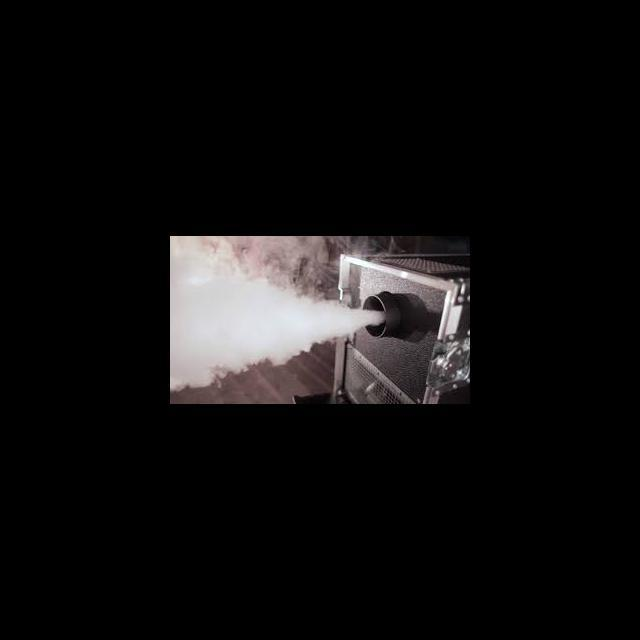Smoke: (170, 260, 256, 370), (259, 287, 307, 366), (310, 296, 336, 346), (339, 300, 367, 334)
